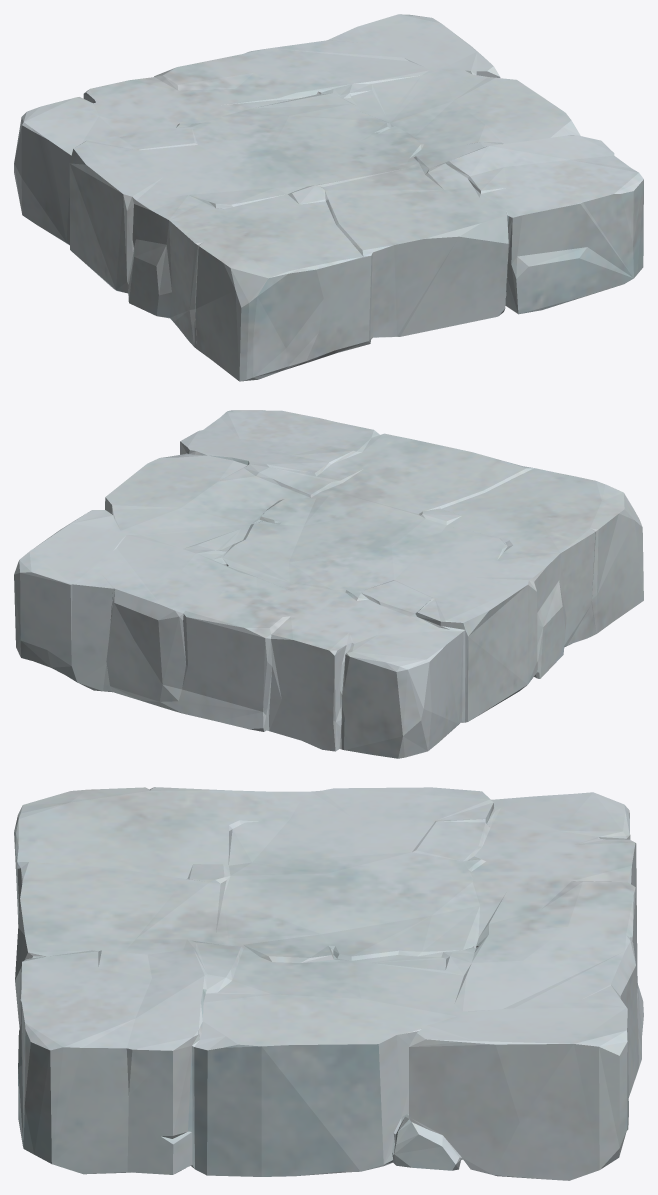
Rendered from P_RockCubic_Metric_8x8x2.obj.
3 views of the same model, one above another, from view 1: azimuth 30°, elevation 25°; view 2: azimuth 150°, elevation 25°; view 3: azimuth 270°, elevation 25° (orthographic). The views are drawn at different scales.
Size of the model in its own units: 16.55 by 4.28 by 16.79.
